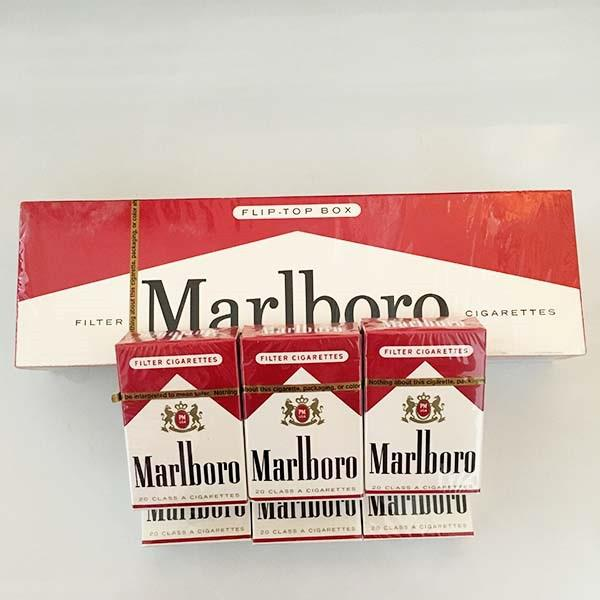marlboro_red: (126, 346, 246, 509), (366, 332, 482, 492), (243, 341, 360, 499)
